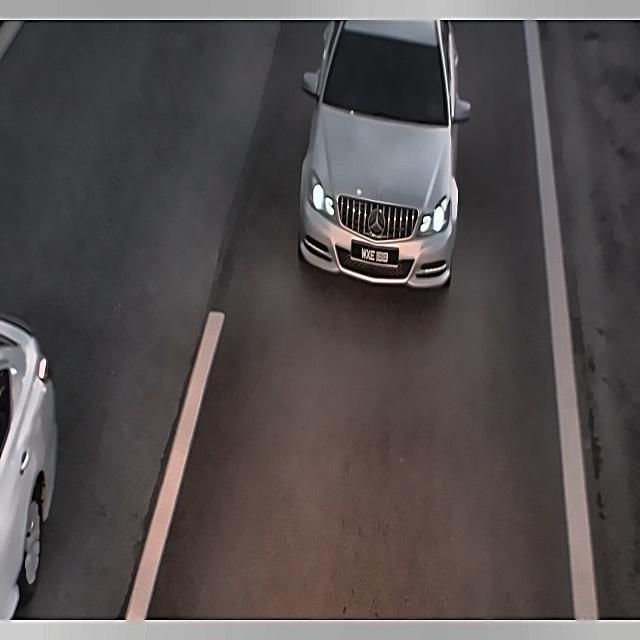car: (346, 236, 406, 272)
